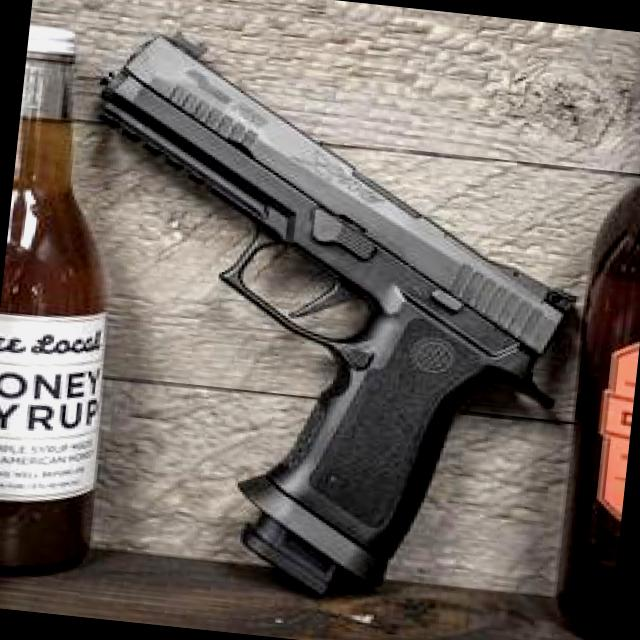semi automatic: (51, 18, 622, 610)
